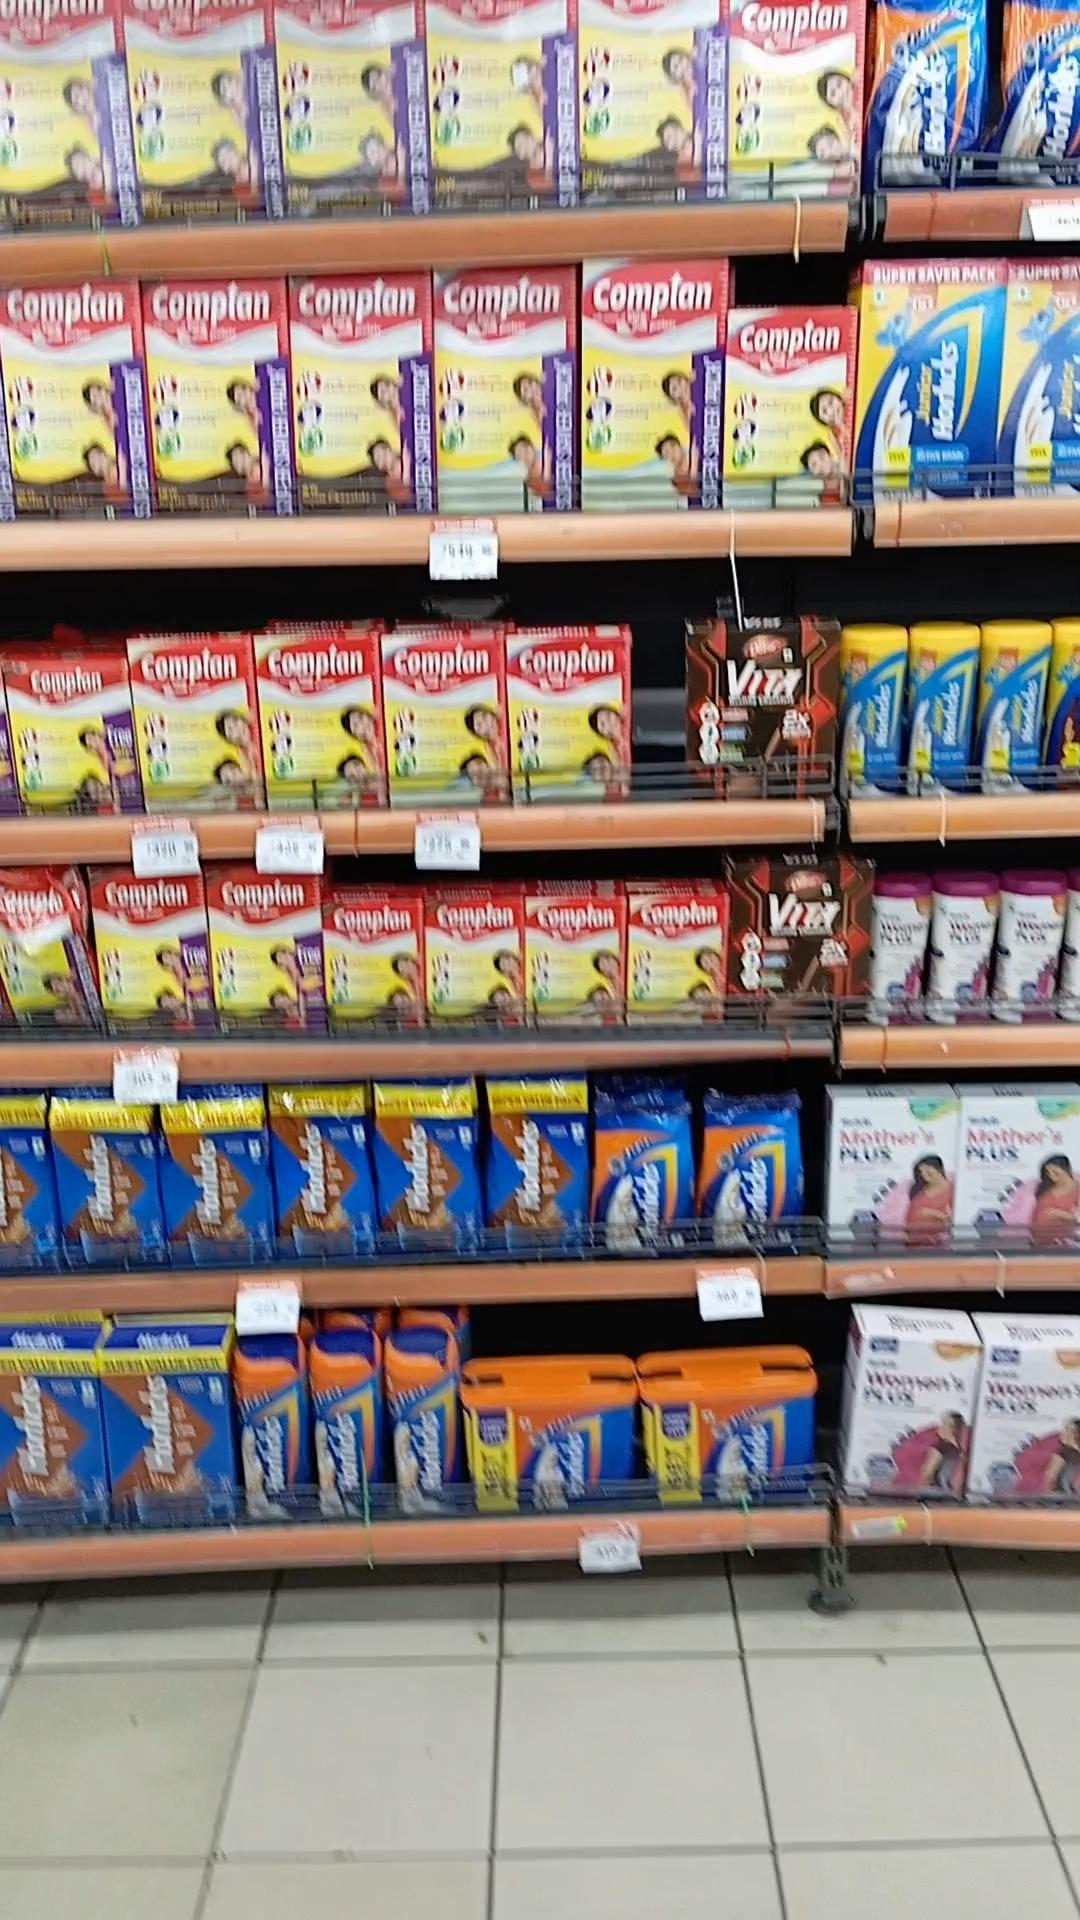COMPLAN_CHOCOLATE_1_KG_PACK: (148, 274, 287, 520), (0, 284, 142, 522), (291, 270, 429, 516), (274, 0, 418, 220), (131, 1, 266, 225), (426, 0, 567, 215), (0, 0, 125, 239), (576, 0, 716, 207), (208, 868, 320, 1039), (92, 873, 202, 1039)
COMPLAN_CHOCOLATE_500_GMS_PACK: (8, 659, 128, 823), (426, 895, 517, 1033), (326, 905, 418, 1039)
COMPLAN_CREAMY_CLASSIC_500_G_PACK: (733, 1, 860, 203), (729, 310, 851, 512), (506, 636, 625, 807), (385, 636, 504, 807)
COMPLAN_KESAR_BADAM_500_GMS_PACK: (133, 640, 256, 815), (526, 898, 624, 1029), (630, 898, 721, 1027)
COMPLAN_PISTA_BADAM_500_GMS_PACK: (261, 633, 380, 810)
COMPLAN_RC_POUCH_700_GMS_12: (0, 865, 83, 1042)
HORLICKS_JUNIOR_VANILLA_500_GM_JAR: (837, 618, 907, 799), (980, 622, 1046, 798), (913, 624, 975, 800)
HORLICK_CHOCOLATE_1_KG_PACK: (103, 1354, 228, 1527), (0, 1354, 95, 1538)
HORLICK_CHOCOLATE_750_G_POUCH: (51, 1089, 154, 1271), (375, 1083, 479, 1261), (164, 1089, 261, 1270), (487, 1077, 580, 1262), (272, 1084, 365, 1262)
HORLICK_CLASSIC_MALT_750_G_POUCH: (873, 1, 981, 186), (592, 1083, 694, 1261), (994, 0, 1080, 189), (704, 1096, 802, 1254)
HORLICK_MALT_1_KG_CONTAINER: (646, 1374, 812, 1502), (465, 1386, 637, 1510)
